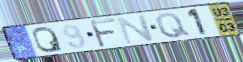1: (186, 7, 209, 37)
9: (62, 24, 87, 50)
F: (88, 18, 118, 49)
N: (116, 14, 157, 46)
Q: (154, 12, 192, 40), (32, 25, 65, 54)
